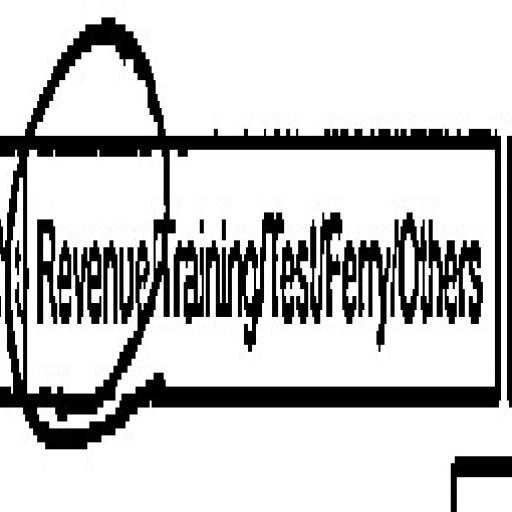check: (8, 27, 154, 487)
